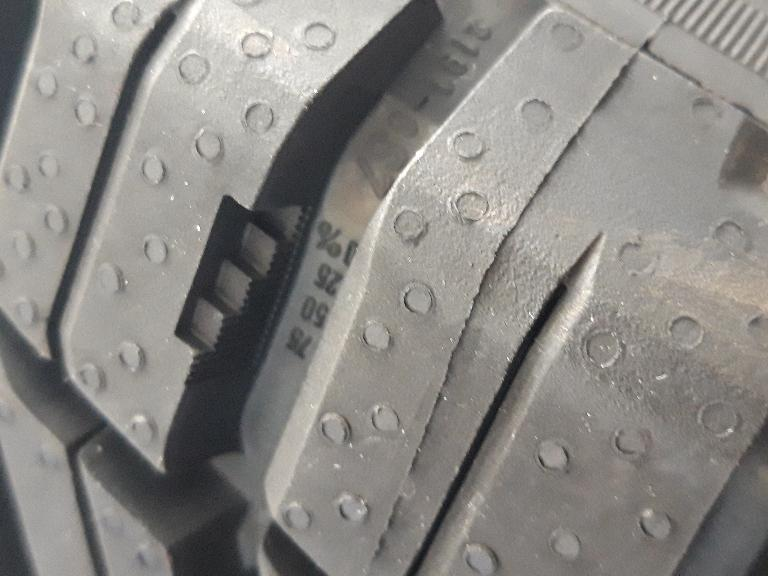temoin:100: (163, 185, 325, 389)
